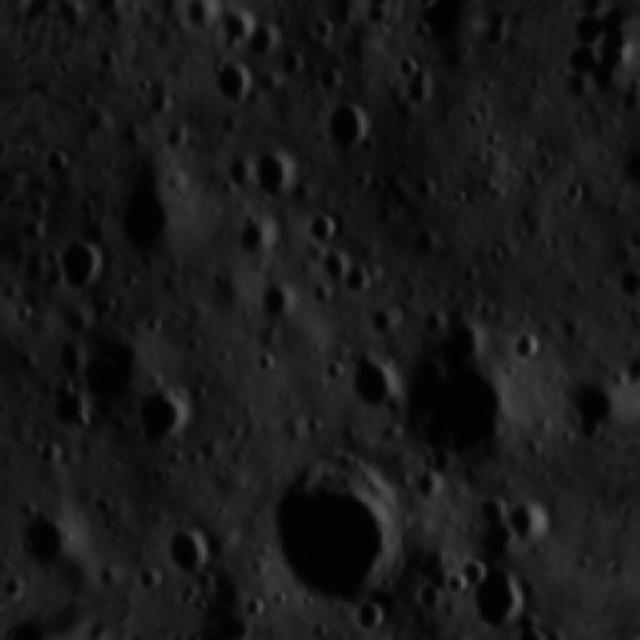crater: (378, 308, 547, 495), (256, 439, 430, 615), (103, 175, 194, 268), (73, 328, 155, 410), (7, 505, 90, 580), (130, 379, 202, 456), (311, 92, 384, 165), (51, 229, 117, 306), (469, 565, 536, 637), (340, 350, 408, 419), (565, 378, 632, 448), (158, 515, 222, 582), (248, 145, 308, 206), (502, 492, 561, 552), (205, 60, 257, 114), (233, 218, 285, 268), (46, 386, 97, 436), (468, 484, 514, 536), (181, 0, 230, 43), (243, 14, 285, 63), (218, 0, 260, 49), (216, 149, 259, 196), (256, 281, 299, 327), (408, 464, 448, 513), (508, 328, 550, 370), (303, 210, 346, 250), (29, 437, 71, 477), (559, 68, 599, 110), (338, 259, 378, 301), (350, 603, 395, 640), (246, 345, 286, 384), (305, 59, 344, 99), (362, 300, 398, 340), (415, 304, 453, 341), (37, 142, 71, 183), (611, 259, 640, 307), (411, 225, 446, 264), (305, 13, 341, 49), (409, 168, 442, 206), (460, 556, 494, 592), (18, 216, 51, 252), (316, 354, 350, 388), (274, 48, 308, 82), (92, 44, 125, 76), (300, 408, 331, 441), (306, 279, 339, 310), (319, 250, 350, 282), (241, 591, 270, 624), (444, 568, 470, 601), (562, 178, 590, 208), (511, 621, 554, 640), (88, 0, 128, 20), (396, 55, 422, 83), (620, 226, 640, 257), (620, 73, 640, 101), (421, 631, 482, 640), (0, 423, 8, 462), (365, 637, 398, 640), (638, 171, 640, 209)
